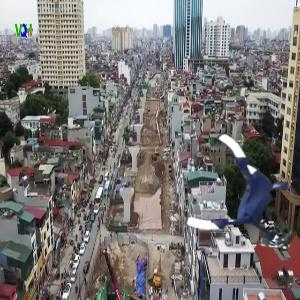drone: (190, 136, 299, 245)
